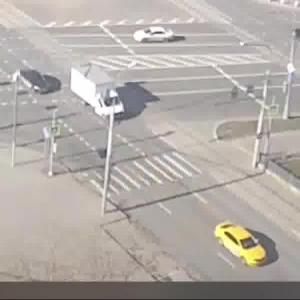car: (214, 220, 280, 270), (71, 65, 127, 123), (15, 67, 62, 98), (130, 29, 180, 45)
